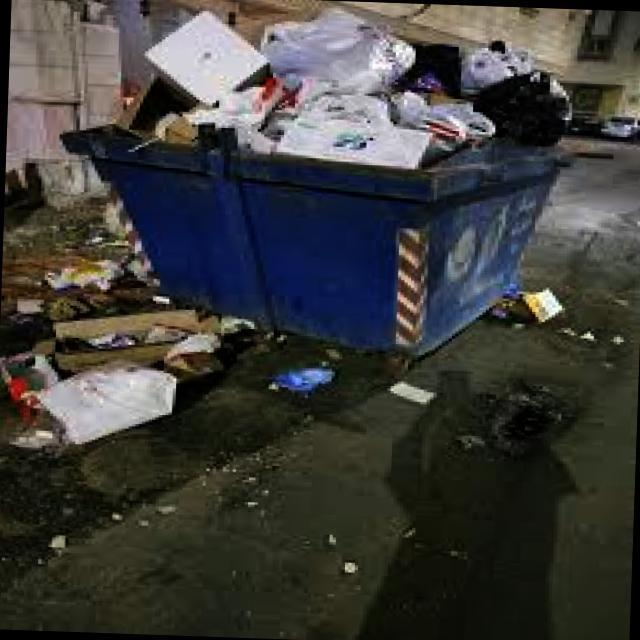garbage: (6, 0, 624, 456)
